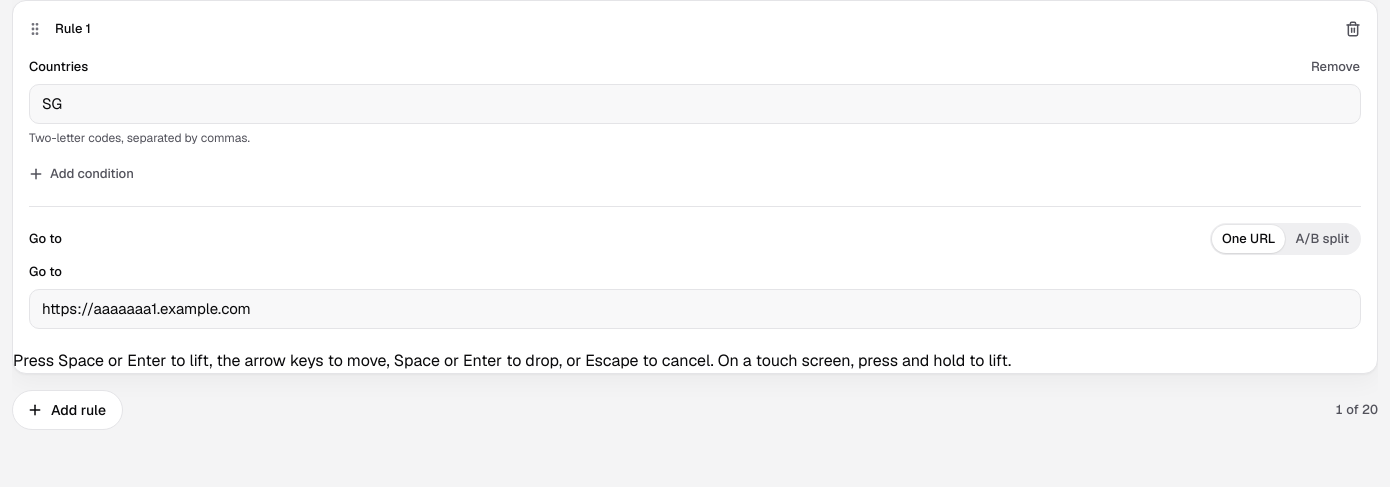
RulesEditor › opens the condition picker with only the unused kinds
Click the button "Add condition": click(82, 174) [17,158,147,190]
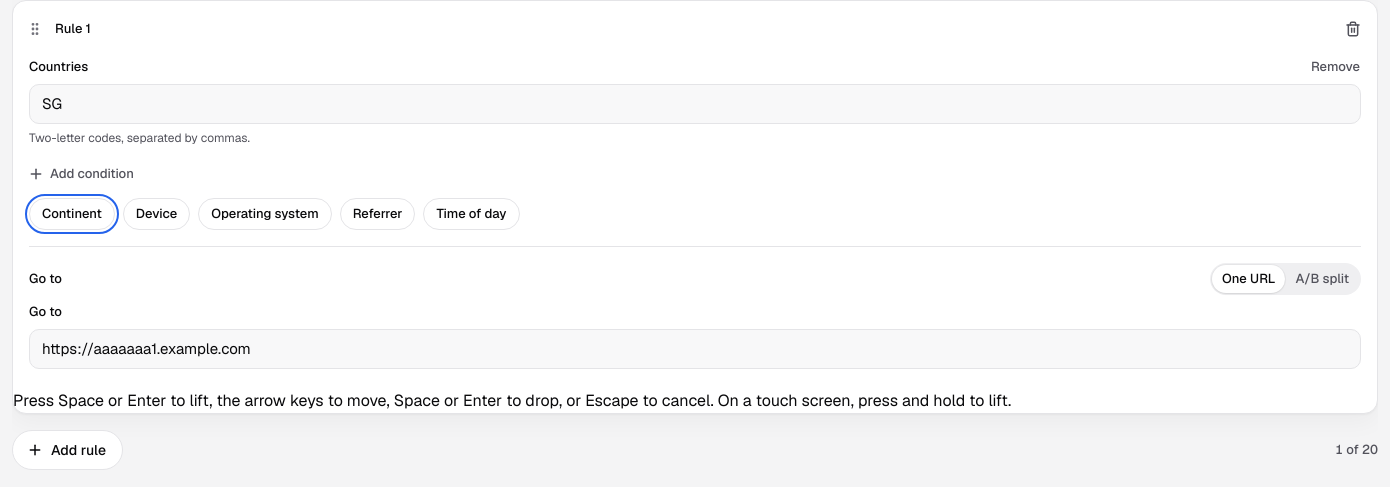
Expected: the buttons read "Continent", "Device", "Operating system", "Referrer", "Time of day", in this order, [29,198,115,230]; [123,198,190,230]; [198,198,332,230]; [340,198,415,230]; [423,198,520,230]
